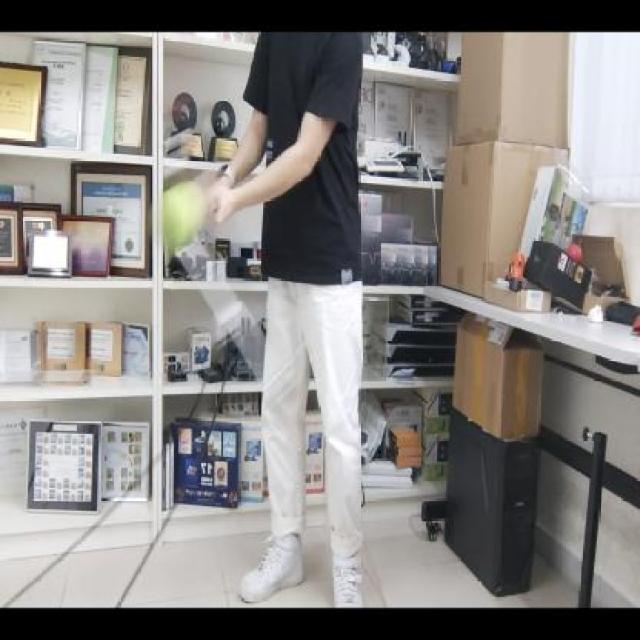baseball: (156, 180, 207, 251)
